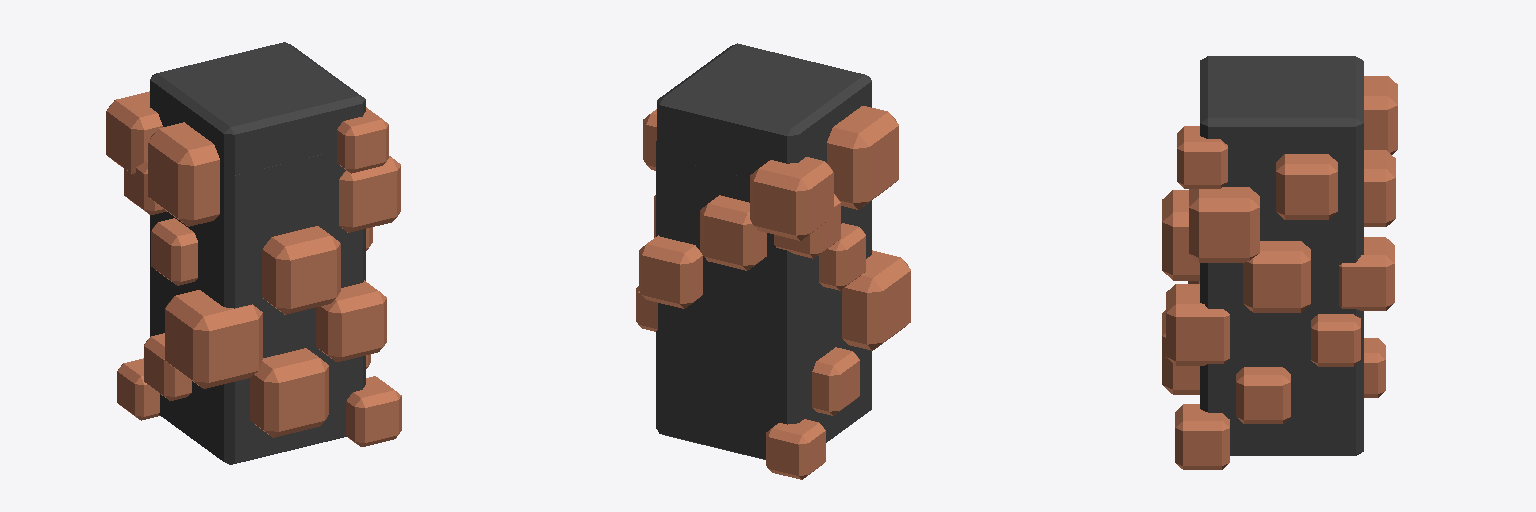
File: ore2.obj
3 views of the same model, side by side, from view 1: azimuth 30°, elevation 25°; view 2: azimuth 150°, elevation 25°; view 3: azimuth 270°, elevation 25° (orthographic).
Visible parts, largest first — view 1: Cube.004_Cube.010, Ore2_Cube.009; view 2: Ore2_Cube.009, Cube.004_Cube.010; view 3: Cube.004_Cube.010, Ore2_Cube.009.
Part boxes in pixels (bbox=[...]): Cube.004_Cube.010: bbox=[106, 91, 401, 446]; Ore2_Cube.009: bbox=[150, 42, 365, 464]; Ore2_Cube.009: bbox=[656, 43, 871, 459]; Cube.004_Cube.010: bbox=[636, 106, 910, 479]; Cube.004_Cube.010: bbox=[1162, 76, 1397, 469]; Ore2_Cube.009: bbox=[1200, 56, 1363, 455].
Bounding box in the file's own units: 2.95 × 4.58 × 2.88.